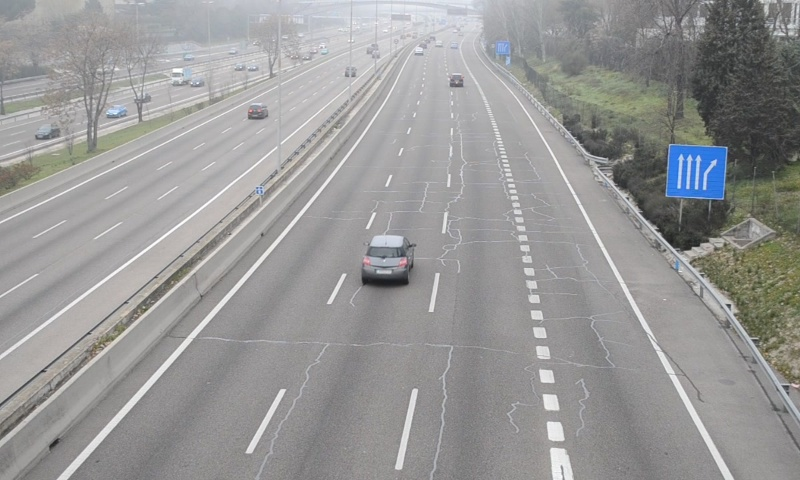car: (362, 235, 413, 282), (449, 74, 465, 88)
